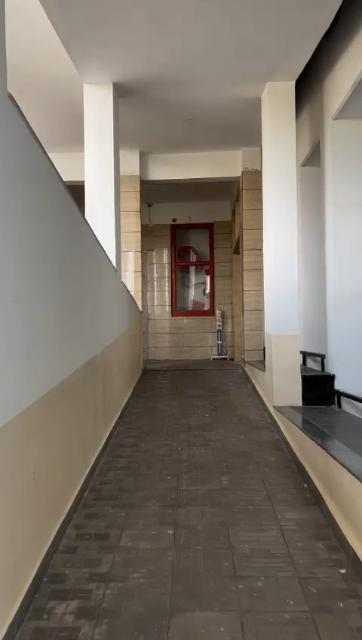floor: (13, 358, 362, 640)
wall: (0, 90, 144, 638), (91, 84, 169, 362), (254, 88, 300, 398), (317, 80, 362, 352), (214, 215, 232, 312), (172, 320, 211, 358)
